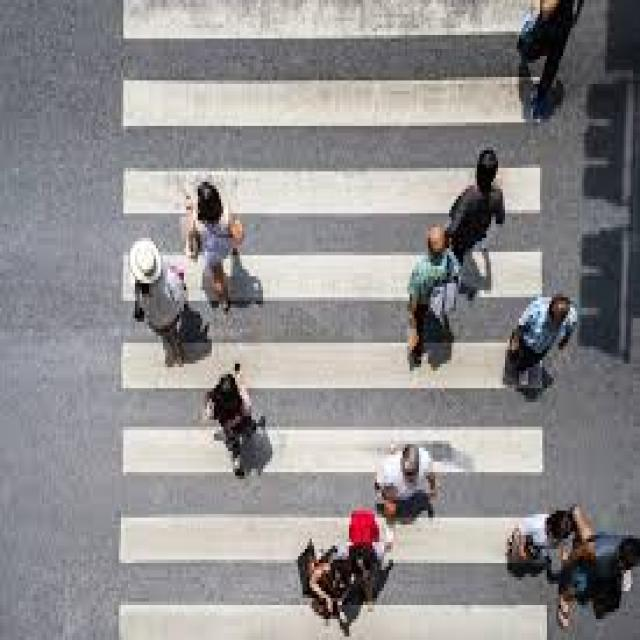Pedestrians: (302, 518, 402, 633), (428, 147, 517, 266), (177, 178, 247, 318), (114, 238, 186, 371), (396, 224, 460, 371), (200, 363, 270, 482), (503, 297, 582, 395), (570, 532, 640, 622), (505, 514, 575, 584), (375, 444, 440, 518)
